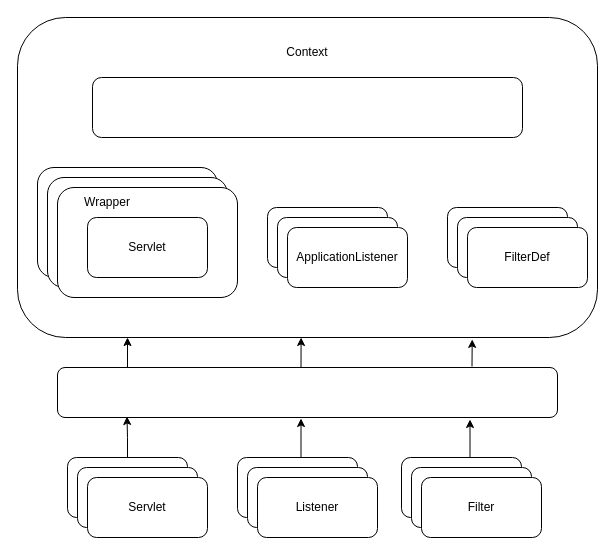
Image size: 615x555. Some labels were removed from this diagram. The box of each missing label's shape, as (x1, y1, x2, y2) in pixels:
ServletContext: (92, 76, 522, 138)
web.xml: (56, 366, 558, 418)
